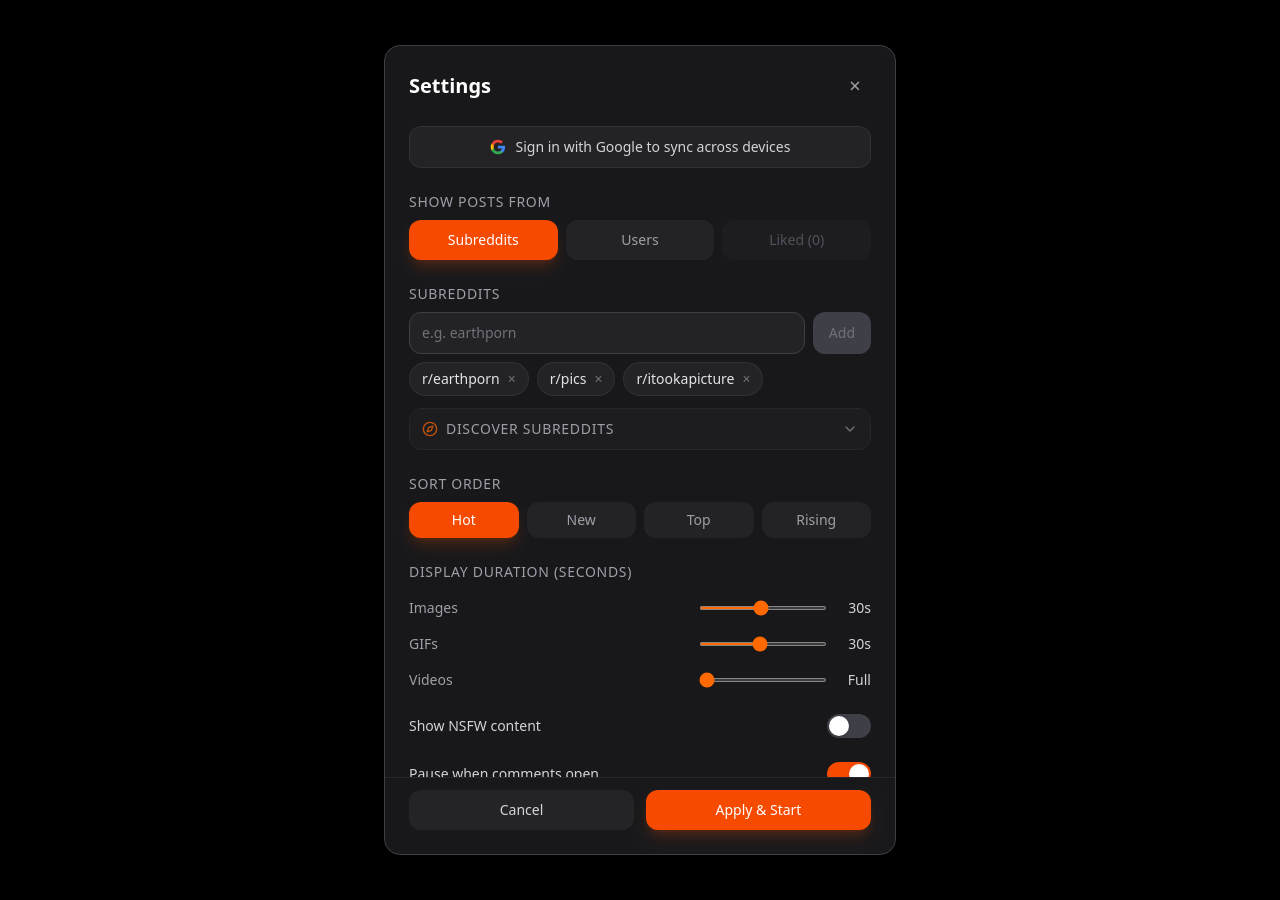
Scenario: SettingsPanel › disables Apply button when no sources
Click the button named "Remove r/earthporn": (512, 379) [508,369,516,389]
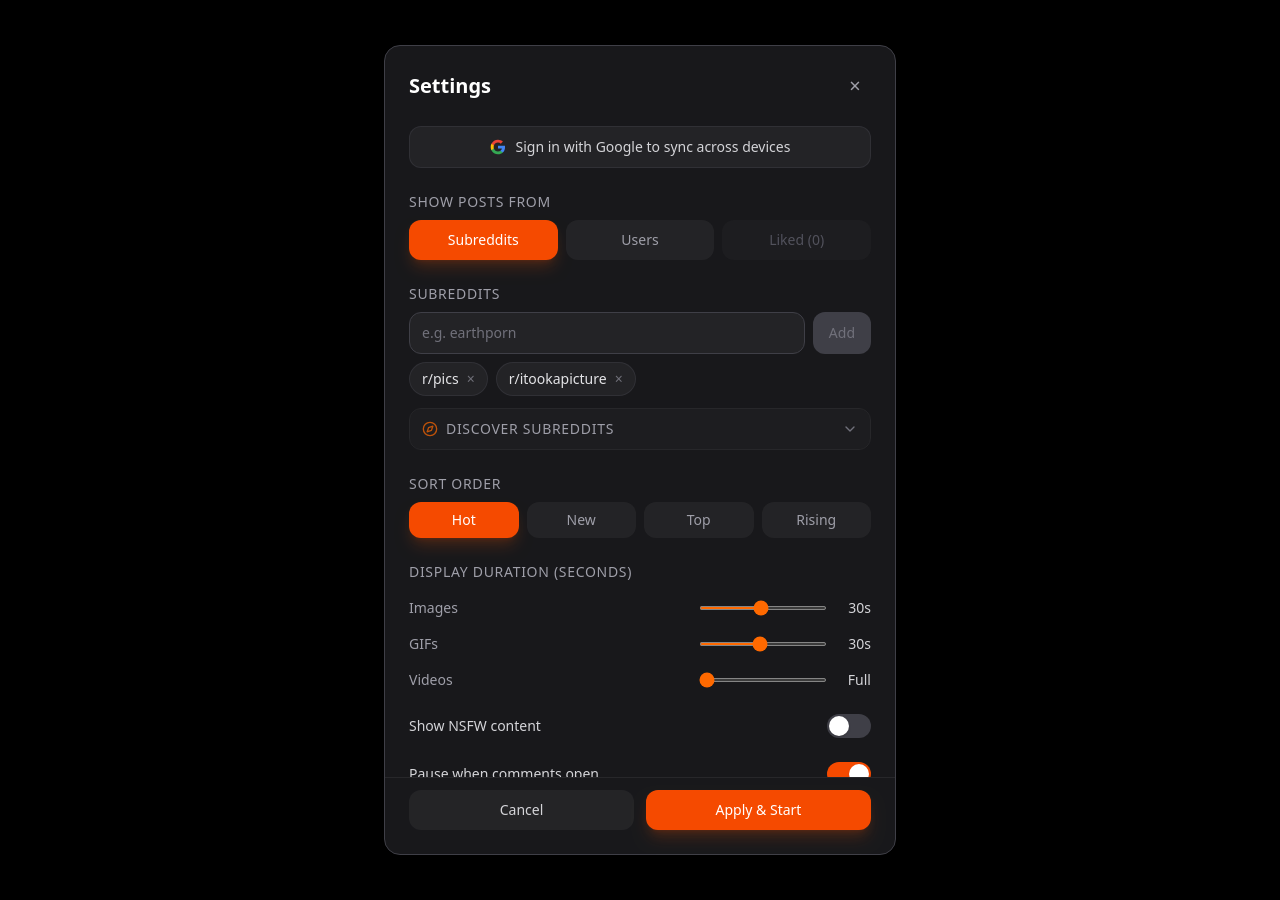
Click the button named "Remove r/pics": (471, 379) [467,369,475,389]
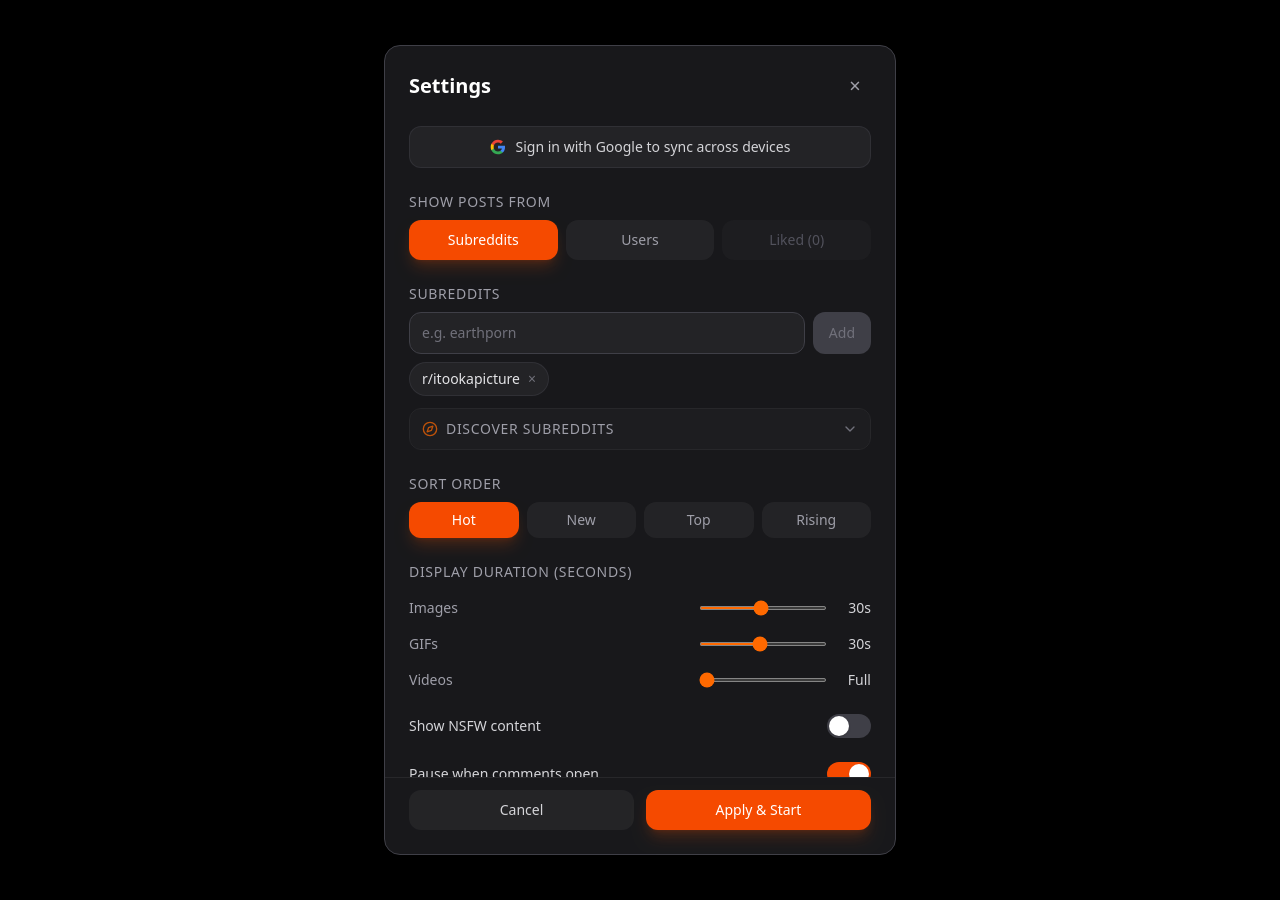
Click the button named "Remove r/itookapicture": (532, 379) [528,369,536,389]
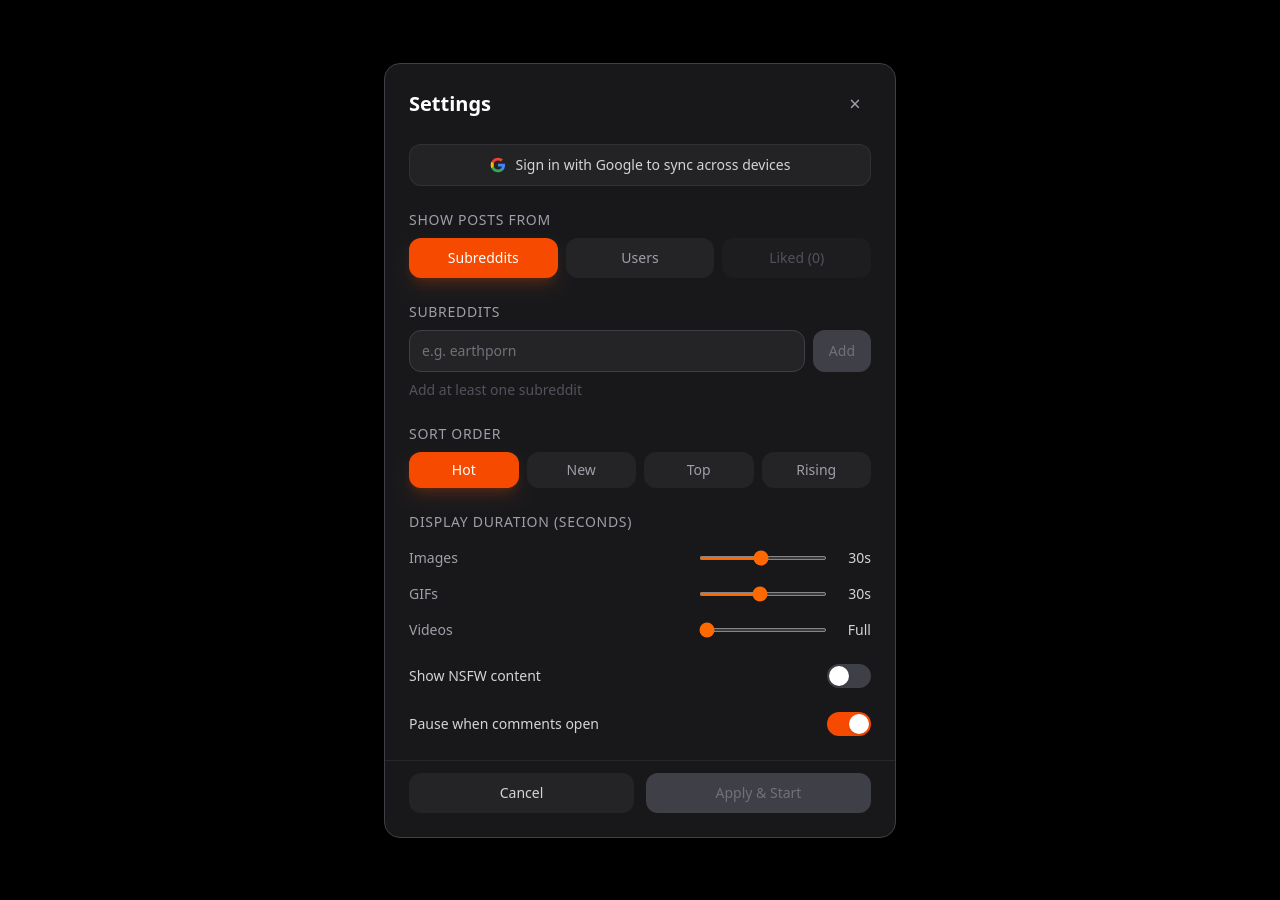
expect the button "Apply & Start" is disabled: met, box [646,772,871,812]
